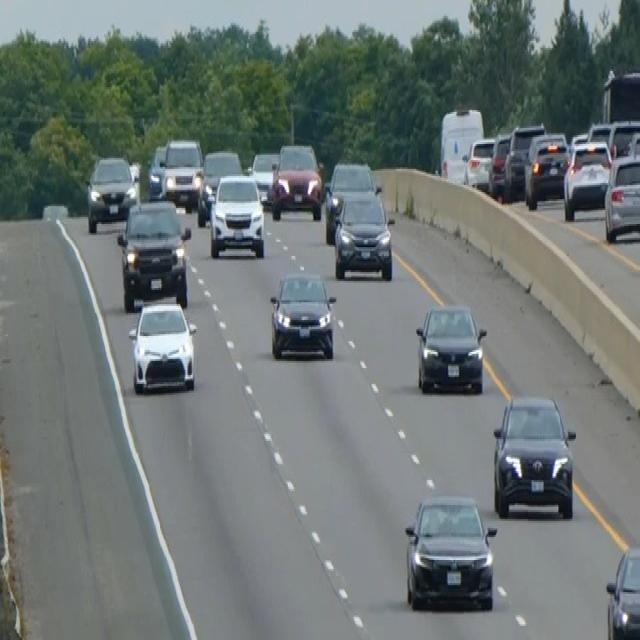car: (403, 491, 497, 612), (491, 391, 576, 519), (414, 300, 487, 394), (127, 297, 197, 395), (268, 268, 337, 361), (333, 188, 394, 281), (208, 170, 265, 258), (324, 158, 380, 242), (270, 140, 323, 220), (562, 137, 612, 220), (85, 153, 137, 231), (523, 130, 569, 208), (196, 147, 242, 225), (603, 151, 639, 242), (605, 542, 639, 638), (503, 121, 544, 199), (161, 135, 203, 206), (463, 135, 495, 190), (249, 150, 279, 207), (488, 130, 511, 197), (608, 118, 639, 158), (146, 142, 166, 199)
jeep: (116, 198, 192, 310)
minibus: (437, 105, 485, 185)
